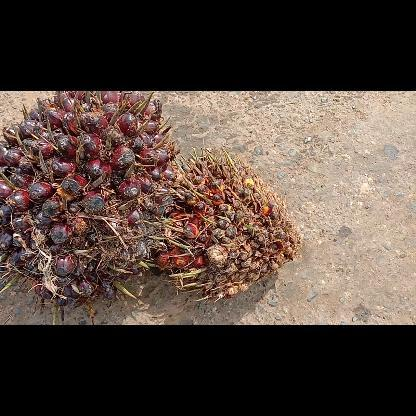Kurang masak: (0, 90, 182, 324)
TBS abnormal: (156, 147, 300, 300)
